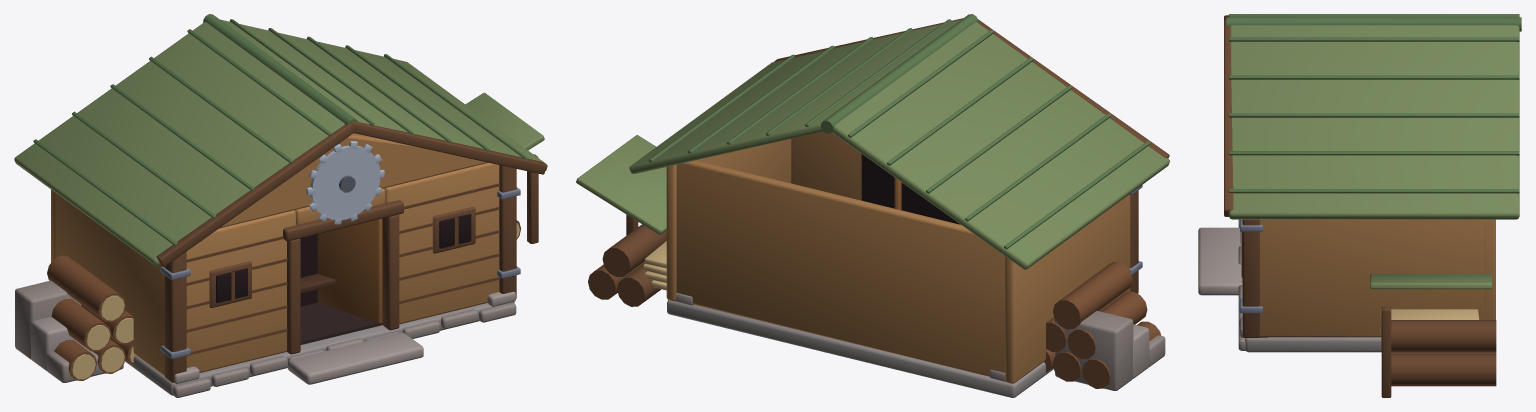
File: sawmill2.glb
The picture shows the model from 3 angles, left to right: view 1: azimuth 30°, elevation 25°; view 2: azimuth 150°, elevation 25°; view 3: azimuth 270°, elevation 25°; orthographic projection. The views are drawn at different scales.
Parts seen in each view (by area): view 1: base, iron-blade, stone-ramp, pine-store; view 2: base, pine-store, stone-ramp; view 3: base, pine-store, iron-blade.
Boxes of the visible parts, x1=… form: base: x1=14, y1=14, x2=547, y2=397; iron-blade: x1=160, y1=141, x2=520, y2=359; stone-ramp: x1=15, y1=280, x2=123, y2=382; pine-store: x1=465, y1=92, x2=544, y2=243; base: x1=629, y1=14, x2=1169, y2=397; pine-store: x1=576, y1=135, x2=666, y2=306; stone-ramp: x1=1055, y1=310, x2=1165, y2=390; base: x1=1198, y1=14, x2=1521, y2=352; pine-store: x1=1370, y1=274, x2=1496, y2=397; iron-blade: x1=1240, y1=219, x2=1262, y2=313.
Bounding box in the file's own units: 7.32 × 3.38 × 3.97.
